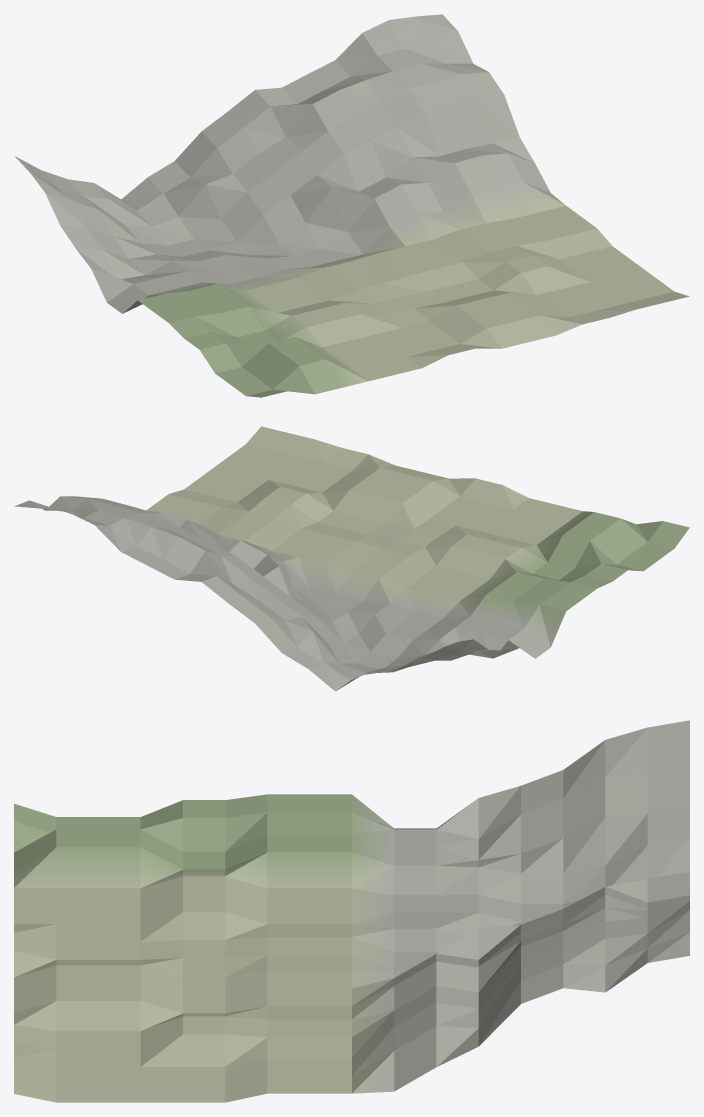
3 views of the same model, one above another, from view 1: azimuth 30°, elevation 25°; view 2: azimuth 150°, elevation 25°; view 3: azimuth 270°, elevation 25° (orthographic). The views are drawn at different scales.
Bounding box in the file's own units: 32 × 9.01 × 32.
